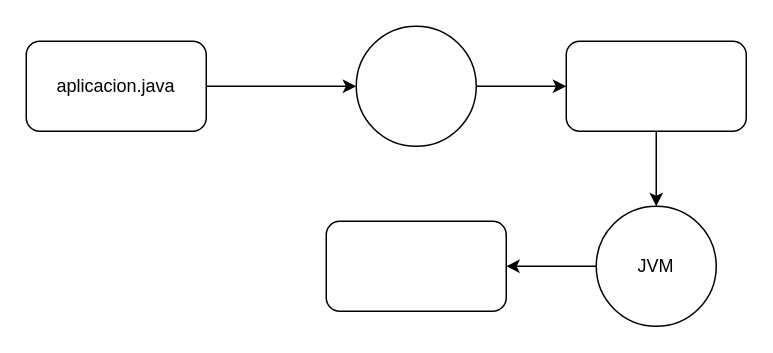
Image size: 773x353. Some labels were removed from this diagram. Here are the shapes that lost their labels. From the top down, the centre of each, then its label:
At [655,85]: "aplicacion.class (bitecode)".
At [415,265]: "Lenguaje de maquina".
